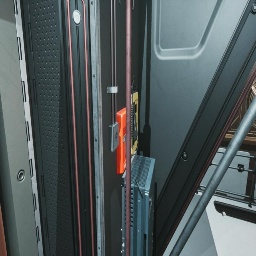EmergencyPhone ,: (131, 75, 138, 157)
FireAlarm ,: (116, 107, 126, 175)
